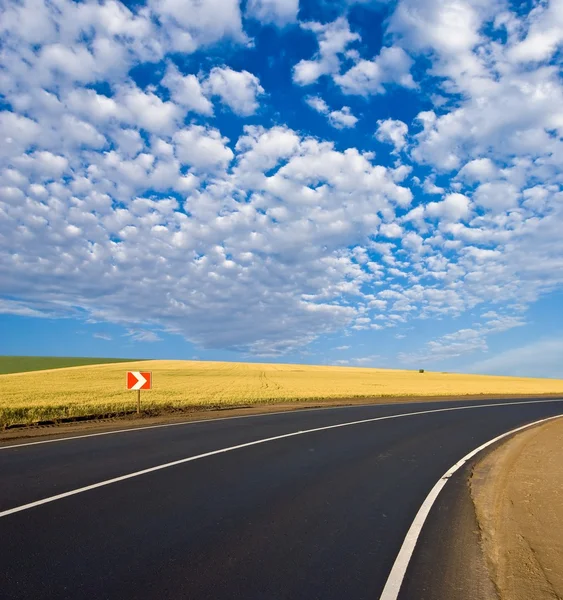rightTrun: (25, 398, 452, 600)
